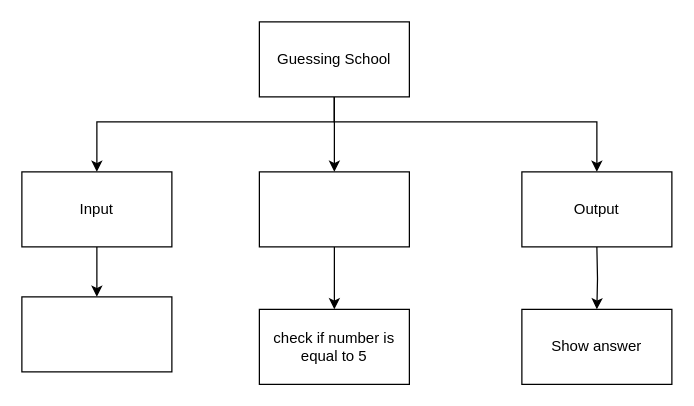
Some shapes in this 694 by 406 pixel diagram are drawn without their labels. The shapes that lost their labels are listed below. From the top down, each one's box as (x1, y1, x2, y2) in pixels, then its label:
(258, 171, 409, 247): Process
(21, 296, 172, 372): Get number from user between 0-9
